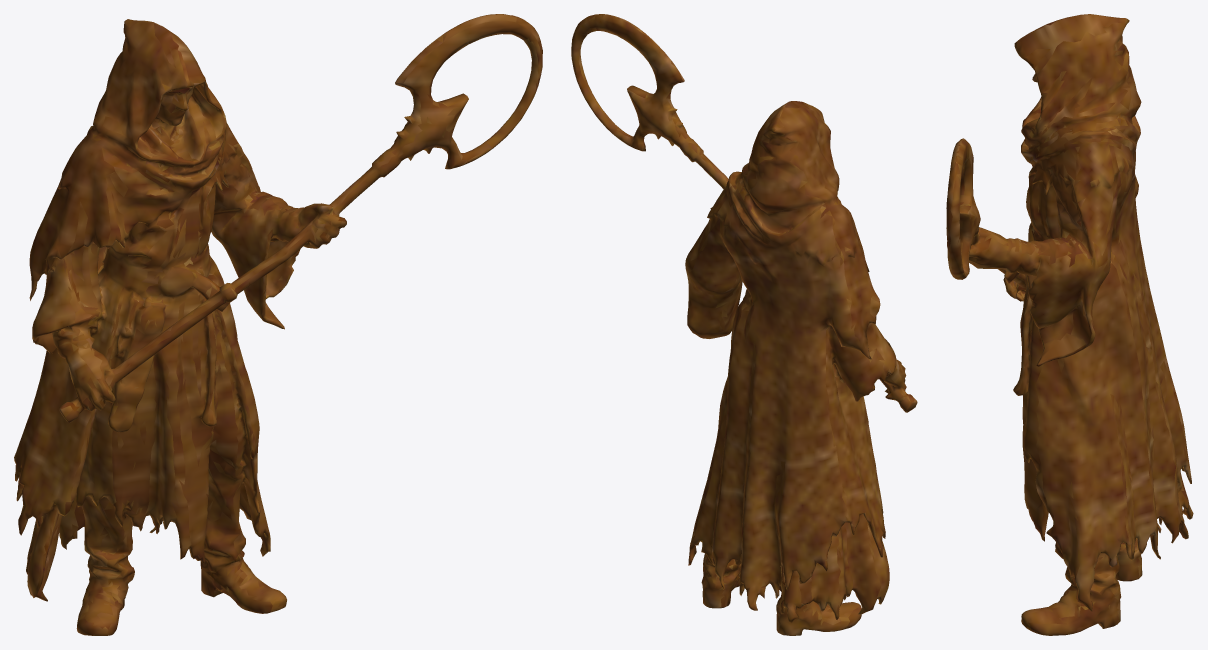
File: poacher.glb
The picture shows the model from 3 angles, left to right: view 1: azimuth 30°, elevation 25°; view 2: azimuth 150°, elevation 25°; view 3: azimuth 270°, elevation 25°; orthographic projection. The views are drawn at different scales.
Parts seen in each view (by area): view 1: Mesh1.0; view 2: Mesh1.0; view 3: Mesh1.0.
Boxes of the visible parts, left/top/right/bottom form: Mesh1.0: left=14, top=14, right=542, bottom=635; Mesh1.0: left=571, top=14, right=917, bottom=635; Mesh1.0: left=946, top=14, right=1193, bottom=635.
Bounding box in the file's own units: 1.5 × 1.91 × 0.7456.
Materials: 1 (1 with a texture image).
